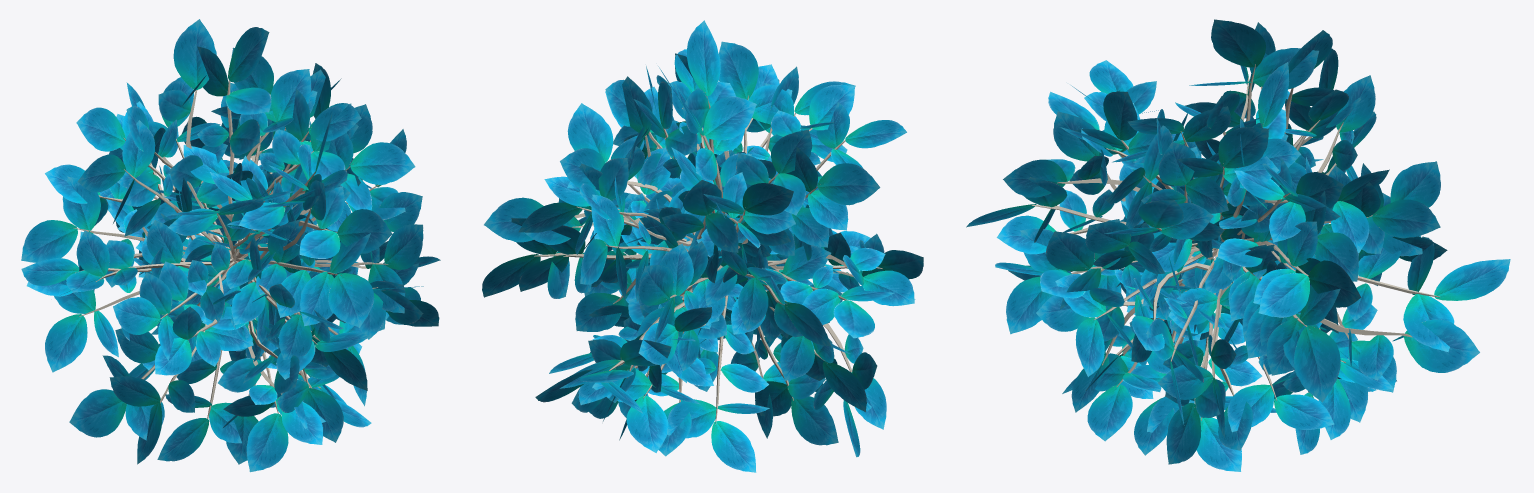
The model's file is bluebush2.fbx.
The picture shows the model from 3 angles, left to right: view 1: azimuth 30°, elevation 25°; view 2: azimuth 150°, elevation 25°; view 3: azimuth 270°, elevation 25°; orthographic projection. The views are drawn at different scales.
Visible parts, largest first — view 1: pCylinder956; view 2: pCylinder956; view 3: pCylinder956.
Boxes of the visible parts, bbox=[...] form: pCylinder956: bbox=[21, 19, 440, 472]; pCylinder956: bbox=[482, 20, 923, 472]; pCylinder956: bbox=[966, 19, 1510, 471].
Bounding box in the file's own units: 15.67 × 16.28 × 18.28.
